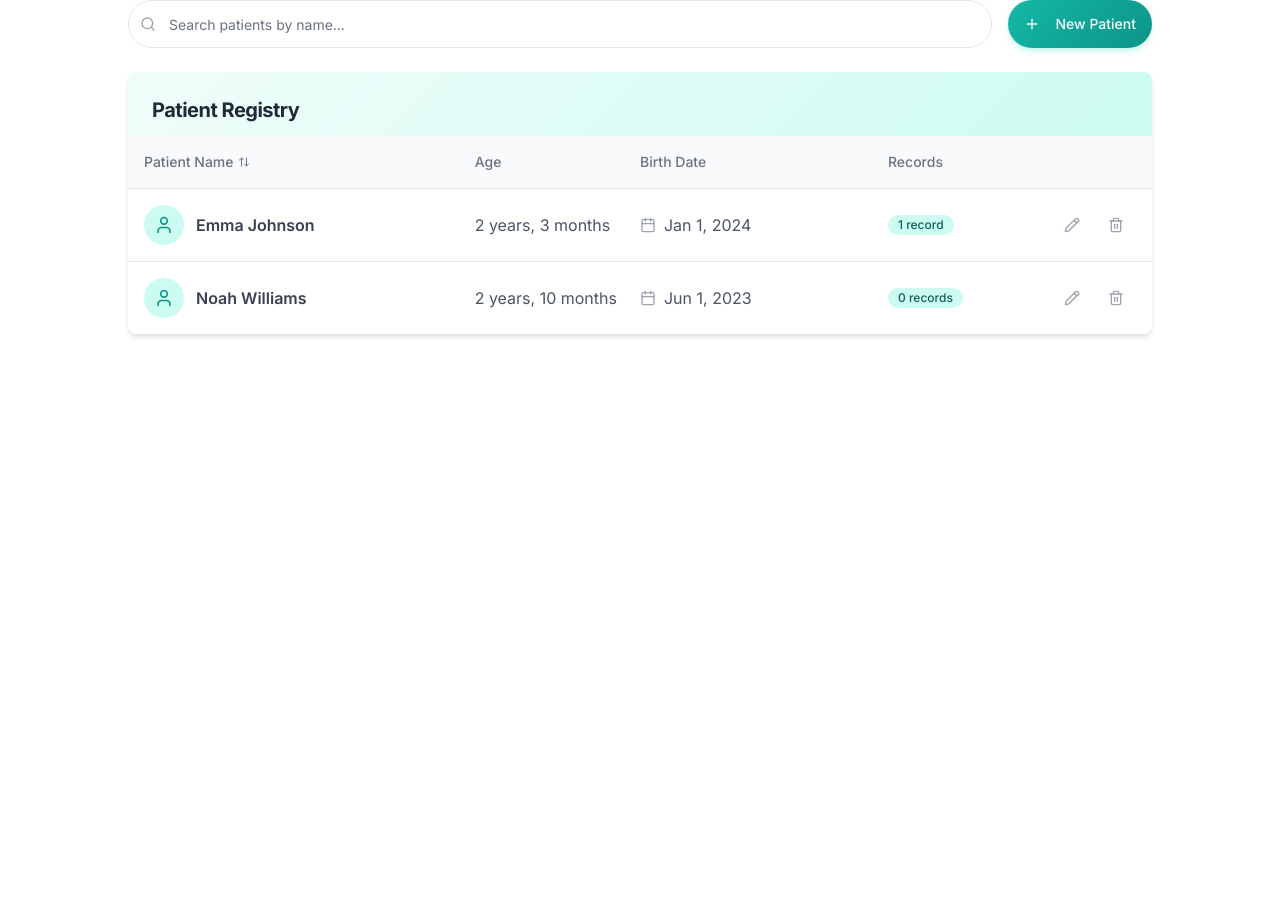
Test: PatientList — edit and delete actions › opens delete confirmation when trash icon is clicked
What coordinates should you click on to do the following:
click the 3rd button
I would click on:
 (1116, 225)
Its box is [1096,205,1136,245].
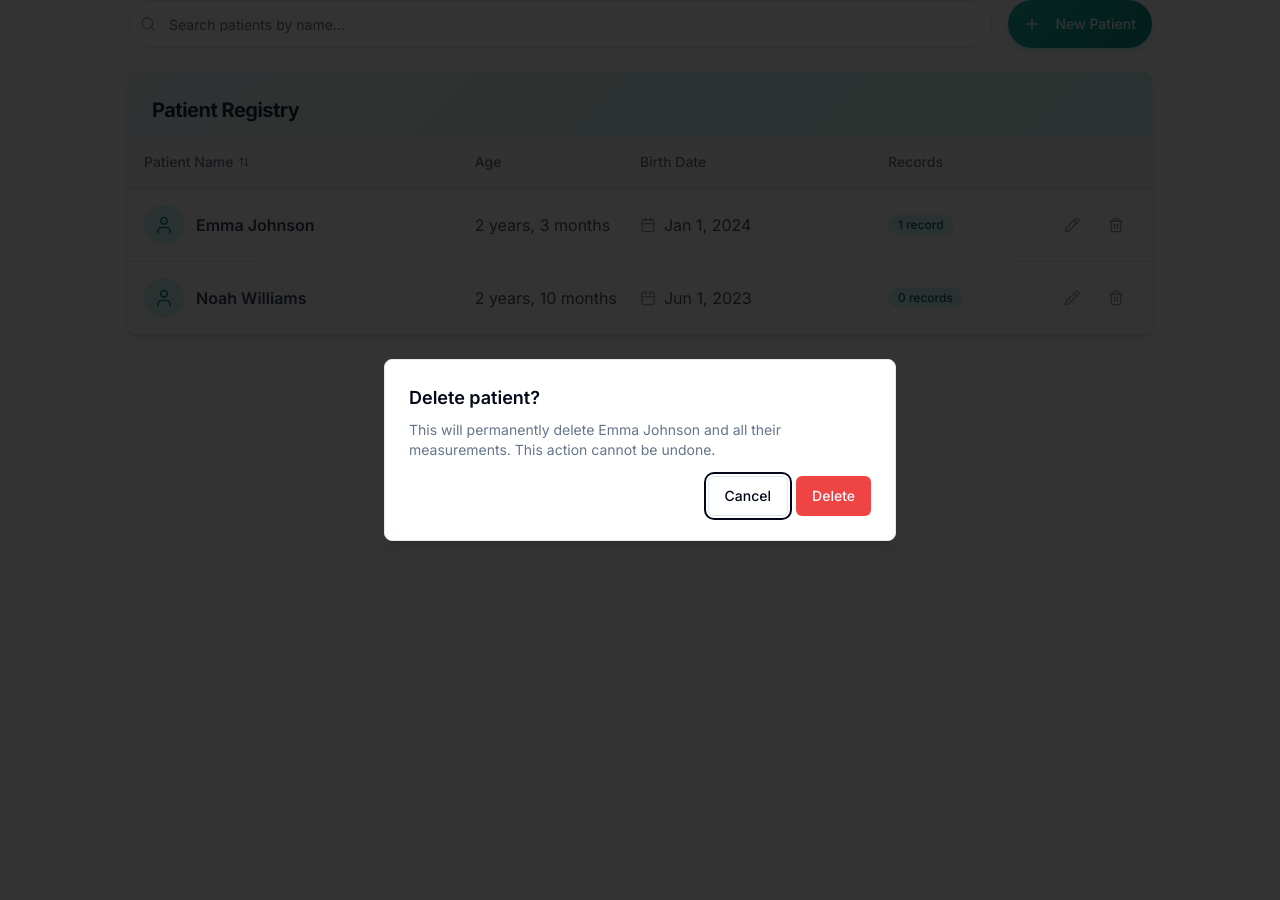
Result: the heading "Delete patient?" is shown at [409,387,540,408]
Result: the text "This will permanently delete" is shown at [409,421,781,458]
